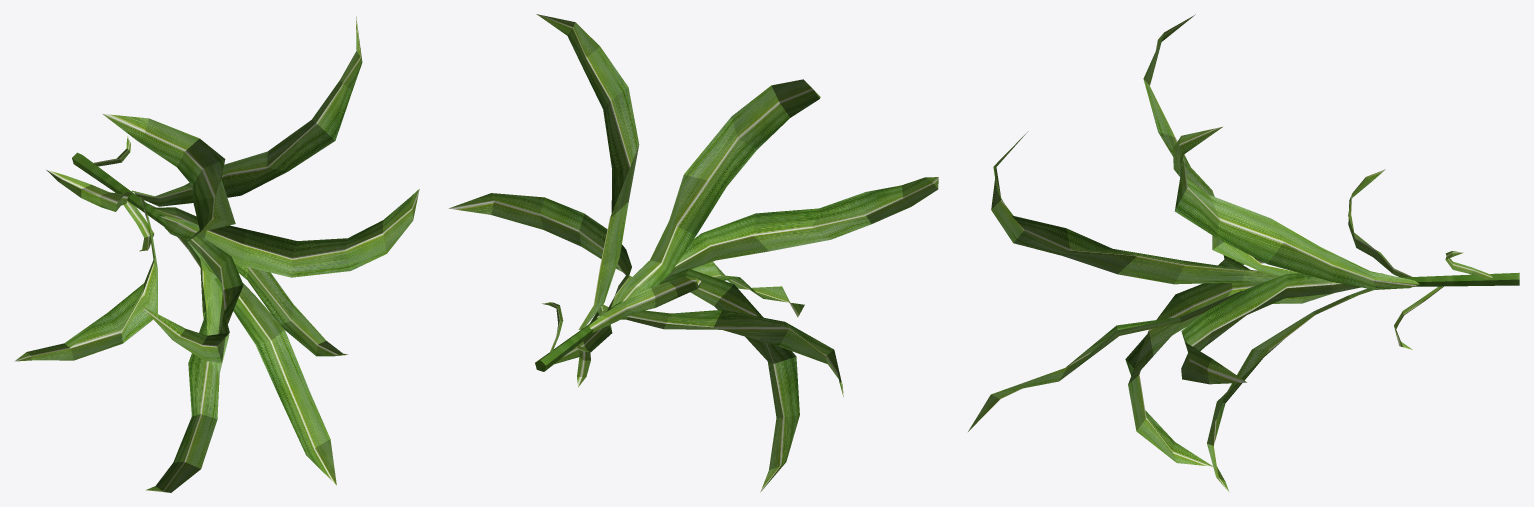
Rendered from maize_big_1.obj.
3 views of the same model, side by side, from view 1: azimuth 30°, elevation 25°; view 2: azimuth 150°, elevation 25°; view 3: azimuth 270°, elevation 25° (orthographic). The views are drawn at different scales.
Visible parts, largest first — view 1: maize_big_unit.005_Plane.012; view 2: maize_big_unit.005_Plane.012; view 3: maize_big_unit.005_Plane.012.
Part boxes in pixels (bbox=[...]): maize_big_unit.005_Plane.012: bbox=[14, 16, 419, 492]; maize_big_unit.005_Plane.012: bbox=[448, 14, 938, 492]; maize_big_unit.005_Plane.012: bbox=[968, 14, 1519, 492].
Bounding box in the file's own units: 0.5132 × 0.5199 × 0.5739.
Materials: 1 (1 with a texture image).
